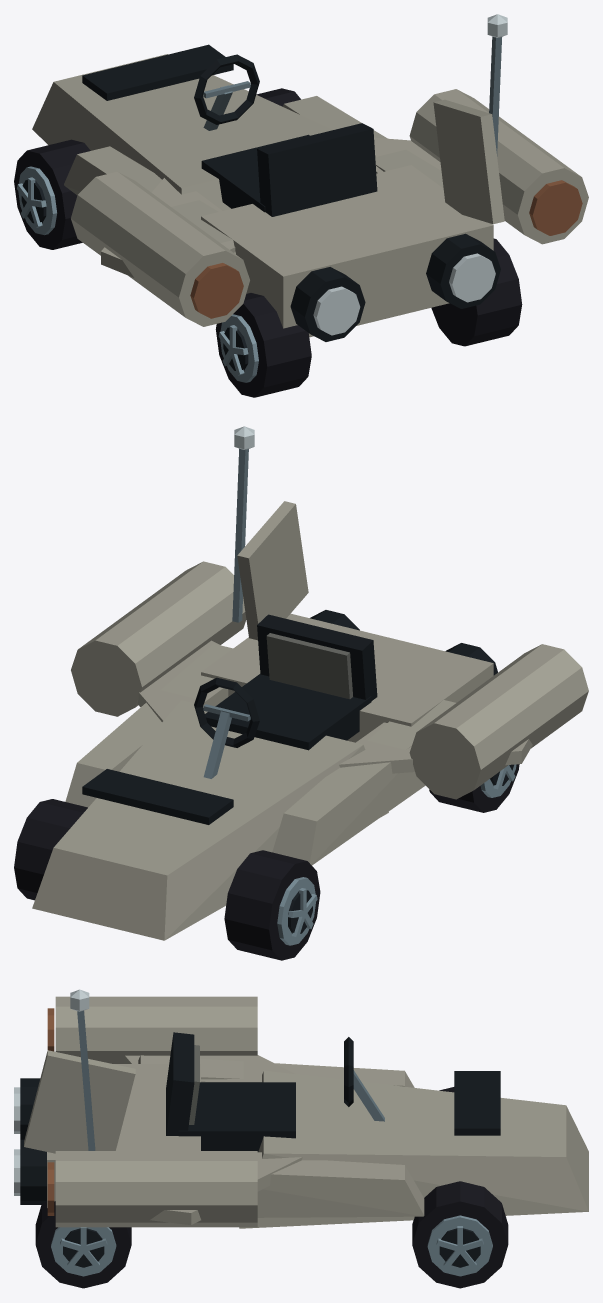
File: kart.glb
3 renders of one model, top to bottom at view 1: azimuth 30°, elevation 25°; view 2: azimuth 150°, elevation 25°; view 3: azimuth 270°, elevation 25°, orthographic. The views are drawn at different scales.
Visible parts, largest first — view 1: identity-shuttle-shuttle-flight-planform, identity-shuttle-motif-engine-pods, identity-shuttle-driver-cockpit, wheel-rear-left, wheel-front-left, wheel-rear-right, identity-shuttle-motif-antenna; view 2: identity-shuttle-shuttle-flight-planform, identity-shuttle-motif-engine-pods, identity-shuttle-driver-cockpit, wheel-front-left, wheel-front-right, identity-shuttle-motif-antenna, wheel-rear-left; view 3: identity-shuttle-shuttle-flight-planform, identity-shuttle-motif-engine-pods, identity-shuttle-driver-cockpit, wheel-front-right, wheel-rear-right, identity-shuttle-motif-antenna.
Part boxes in pixels (bbox=[...]): identity-shuttle-shuttle-flight-planform: bbox=[32, 44, 504, 341]; identity-shuttle-motif-engine-pods: bbox=[71, 89, 588, 326]; identity-shuttle-driver-cockpit: bbox=[194, 54, 377, 216]; wheel-rear-left: bbox=[215, 293, 311, 397]; wheel-front-left: bbox=[14, 139, 90, 249]; wheel-rear-right: bbox=[431, 238, 522, 346]; identity-shuttle-motif-antenna: bbox=[487, 14, 507, 156]; identity-shuttle-shuttle-flight-planform: bbox=[32, 501, 532, 940]; identity-shuttle-motif-engine-pods: bbox=[71, 561, 588, 799]; identity-shuttle-driver-cockpit: bbox=[194, 614, 377, 778]; wheel-front-left: bbox=[224, 850, 320, 960]; wheel-front-right: bbox=[14, 799, 87, 900]; identity-shuttle-motif-antenna: bbox=[232, 426, 254, 622]; wheel-rear-left: bbox=[429, 764, 519, 812]; identity-shuttle-shuttle-flight-planform: bbox=[14, 1050, 588, 1228]; identity-shuttle-motif-engine-pods: bbox=[47, 996, 257, 1227]; identity-shuttle-driver-cockpit: bbox=[166, 1032, 384, 1151]; wheel-front-right: bbox=[412, 1181, 508, 1288]; wheel-rear-right: bbox=[35, 1201, 131, 1288]; identity-shuttle-motif-antenna: bbox=[70, 989, 95, 1150].
Size of the model in its own units: 2.36 by 1.72 by 2.99.
